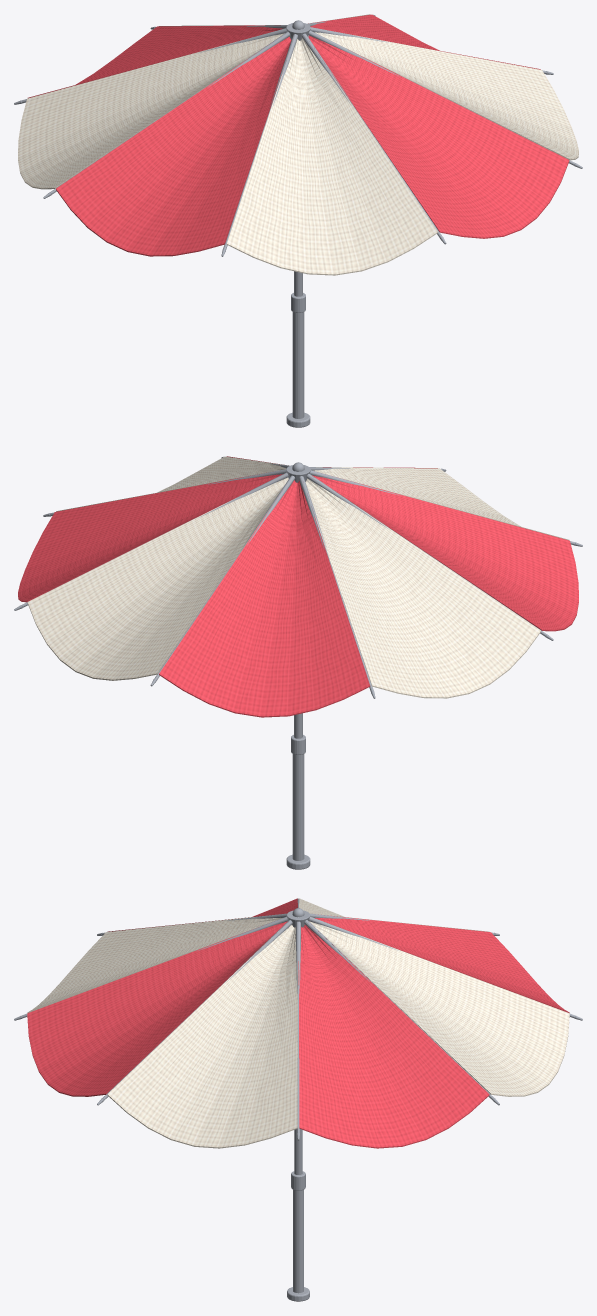
File: beach_umbrella.glb
3 renders of one model, top to bottom at view 1: azimuth 30°, elevation 25°; view 2: azimuth 150°, elevation 25°; view 3: azimuth 270°, elevation 25°, orthographic. The views are drawn at different scales.
Visible parts, largest first — view 1: beach_umbrella_canopy_panel5, beach_umbrella_canopy_panel4, beach_umbrella_canopy_panel6, beach_umbrella_canopy_panel3, beach_umbrella_canopy_panel7, beach_umbrella_canopy_panel2, beach_umbrella_canopy_panel0, beach_umbrella_pole_lower, beach_umbrella_rib5, beach_umbrella_rib6, beach_umbrella_rib4; view 2: beach_umbrella_canopy_panel2, beach_umbrella_canopy_panel3, beach_umbrella_canopy_panel1, beach_umbrella_canopy_panel4, beach_umbrella_canopy_panel0, beach_umbrella_canopy_panel5, beach_umbrella_canopy_panel7, beach_umbrella_pole_lower, beach_umbrella_rib3, beach_umbrella_rib2, beach_umbrella_rib4; view 3: beach_umbrella_canopy_panel0, beach_umbrella_canopy_panel7, beach_umbrella_canopy_panel1, beach_umbrella_canopy_panel6, beach_umbrella_canopy_panel2, beach_umbrella_canopy_panel5, beach_umbrella_pole_lower, beach_umbrella_rib0, beach_umbrella_rib1, beach_umbrella_rib7.
Boxes of the visible parts, bbox=[...] form: beach_umbrella_canopy_panel5: bbox=[226, 38, 437, 275]; beach_umbrella_canopy_panel4: bbox=[56, 36, 291, 256]; beach_umbrella_canopy_panel6: bbox=[308, 35, 569, 238]; beach_umbrella_canopy_panel3: bbox=[18, 33, 284, 189]; beach_umbrella_canopy_panel7: bbox=[313, 30, 578, 160]; beach_umbrella_canopy_panel2: bbox=[28, 25, 283, 98]; beach_umbrella_canopy_panel0: bbox=[308, 14, 540, 69]; beach_umbrella_pole_lower: bbox=[292, 312, 304, 418]; beach_umbrella_rib5: bbox=[223, 29, 297, 249]; beach_umbrella_rib6: bbox=[301, 29, 442, 237]; beach_umbrella_rib4: bbox=[50, 28, 293, 194]; beach_umbrella_canopy_panel2: bbox=[159, 480, 370, 717]; beach_umbrella_canopy_panel3: bbox=[305, 478, 540, 698]; beach_umbrella_canopy_panel1: bbox=[27, 477, 288, 680]; beach_umbrella_canopy_panel4: bbox=[312, 475, 578, 631]; beach_umbrella_canopy_panel0: bbox=[18, 472, 283, 602]; beach_umbrella_canopy_panel5: bbox=[313, 467, 568, 540]; beach_umbrella_canopy_panel7: bbox=[56, 456, 288, 511]; beach_umbrella_pole_lower: bbox=[292, 754, 304, 860]; beach_umbrella_rib3: bbox=[299, 471, 373, 691]; beach_umbrella_rib2: bbox=[154, 471, 295, 679]; beach_umbrella_rib4: bbox=[303, 470, 546, 636]; beach_umbrella_canopy_panel0: bbox=[298, 925, 489, 1148]; beach_umbrella_canopy_panel7: bbox=[107, 925, 298, 1148]; beach_umbrella_canopy_panel1: bbox=[309, 921, 569, 1096]; beach_umbrella_canopy_panel6: bbox=[27, 921, 287, 1096]; beach_umbrella_canopy_panel2: bbox=[314, 914, 569, 1013]; beach_umbrella_canopy_panel5: bbox=[27, 914, 282, 1013]; beach_umbrella_pole_lower: bbox=[293, 1190, 303, 1293]; beach_umbrella_rib0: bbox=[296, 917, 300, 1132]; beach_umbrella_rib1: bbox=[302, 916, 494, 1100]; beach_umbrella_rib7: bbox=[102, 916, 294, 1100].
Bounding box in the file's own units: 2.83 × 2.13 × 2.83.
3 materials, 3 textured.
